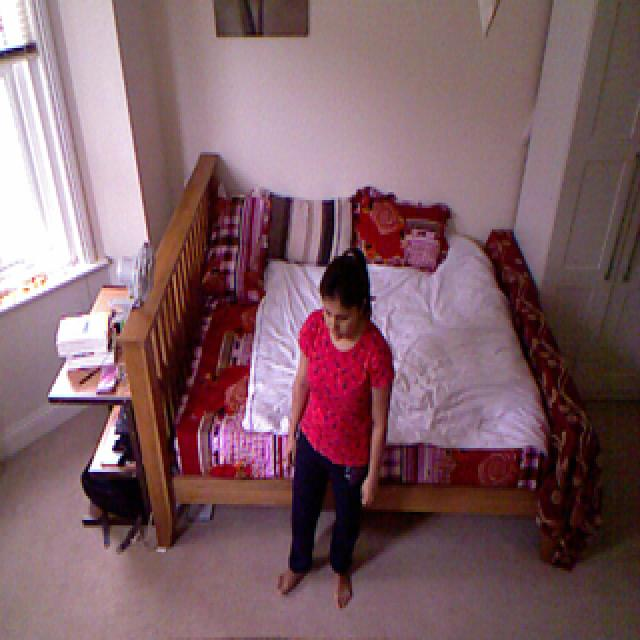standing: (281, 245, 394, 610)
